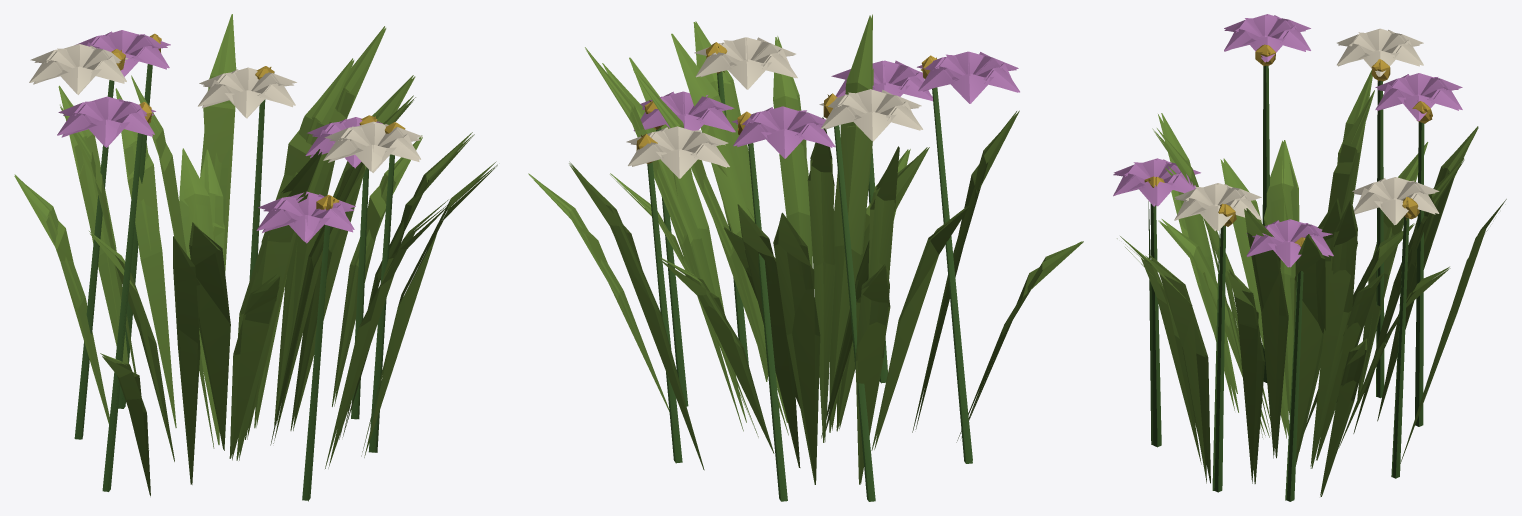
The model's file is Flowers.source-pack-baseline.glb.
The picture shows the model from 3 angles, left to right: view 1: azimuth 30°, elevation 25°; view 2: azimuth 150°, elevation 25°; view 3: azimuth 270°, elevation 25°; orthographic projection. The views are drawn at different scales.
Parts seen in each view (by area): view 1: Flowers_L0, Flowers_L1, Flowers_L2; view 2: Flowers_L0, Flowers_L2, Flowers_L1; view 3: Flowers_L0, Flowers_L1, Flowers_L2.
Boxes of the visible parts, x1,y1,x2,y2 form: Flowers_L0: (14, 14, 496, 500); Flowers_L1: (15, 28, 497, 499); Flowers_L2: (14, 28, 497, 501); Flowers_L0: (528, 15, 1081, 501); Flowers_L2: (529, 22, 1083, 483); Flowers_L1: (547, 14, 1083, 484); Flowers_L0: (1114, 14, 1506, 501); Flowers_L1: (1113, 15, 1486, 500); Flowers_L2: (1113, 15, 1487, 494).
Size of the model in its own units: 0.7016 by 0.6007 by 0.6022.
